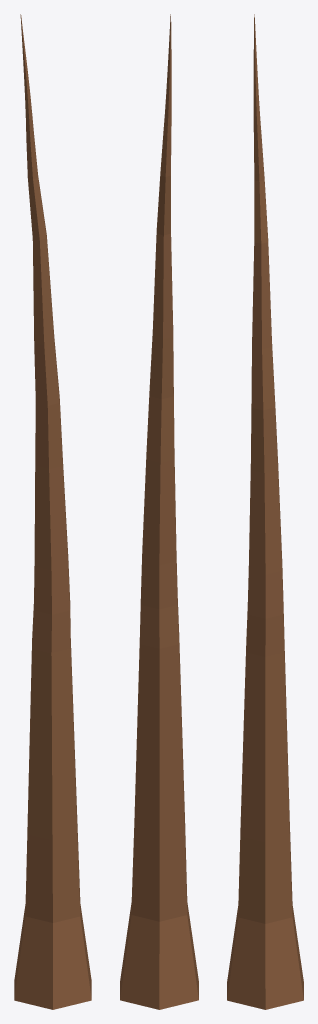
File: tree-autumn-trunk-15-027.glb
3 renders of one model, left to right at view 1: azimuth 30°, elevation 25°; view 2: azimuth 150°, elevation 25°; view 3: azimuth 330°, elevation 25°, orthographic. The views are drawn at different scales.
Parts seen in each view (by area): view 1: TREE 15.005_393; view 2: TREE 15.005_393; view 3: TREE 15.005_393.
Boxes of the visible parts, bbox=[...] form: TREE 15.005_393: bbox=[14, 14, 91, 1009]; TREE 15.005_393: bbox=[120, 14, 198, 1009]; TREE 15.005_393: bbox=[227, 14, 303, 1009].
Bounding box in the file's own units: 0.1537 × 1.84 × 0.1331.
